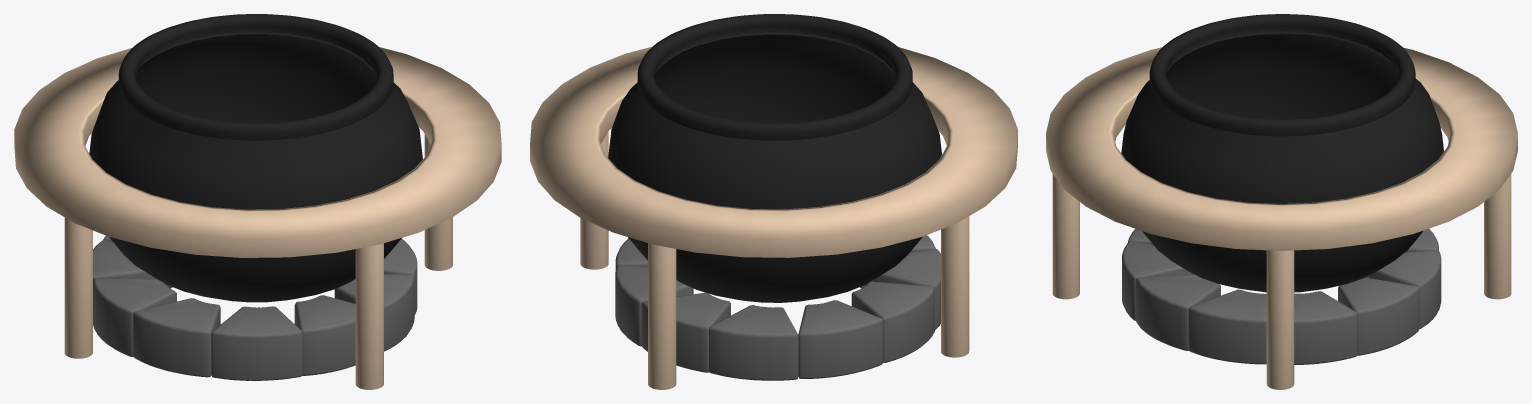
Rendered from kama_set.fbx.
3 views of the same model, side by side, from view 1: azimuth 30°, elevation 25°; view 2: azimuth 150°, elevation 25°; view 3: azimuth 270°, elevation 25° (orthographic). The views are drawn at different scales.
Parts seen in each view (by area): view 1: kama; view 2: kama; view 3: kama.
Boxes of the visible parts, box(x1,y1,x2,y2) form: kama: box(14, 14, 501, 389); kama: box(530, 14, 1017, 389); kama: box(1046, 14, 1517, 389).
Bounding box in the file's own units: 65.17 × 35.55 × 65.17.
